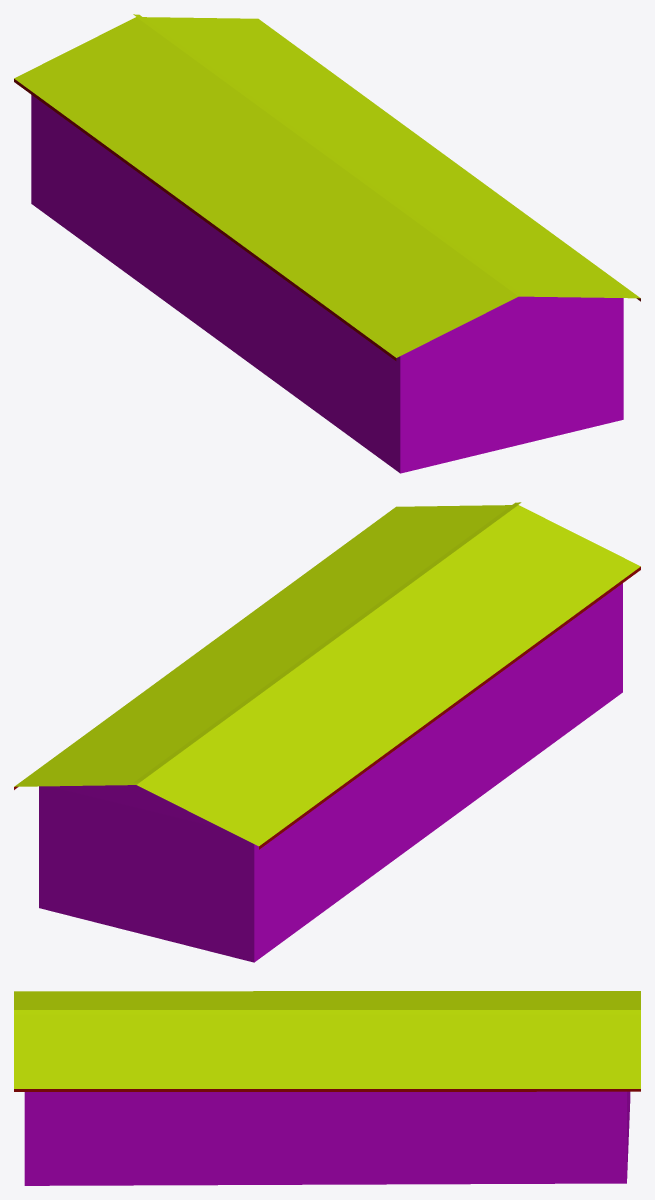
File: rmc_161.glb
The picture shows the model from 3 angles, top to bottom: view 1: azimuth 30°, elevation 25°; view 2: azimuth 150°, elevation 25°; view 3: azimuth 270°, elevation 25°; orthographic projection. The views are drawn at different scales.
Parts seen in each view (by area): view 1: rmc_161; view 2: rmc_161; view 3: rmc_161.
Boxes of the visible parts, x1,y1,x2,y2 form: rmc_161: (14,14,640,473); rmc_161: (14,502,640,962); rmc_161: (14,991,640,1185).
Size of the model in its own units: 8.91 by 5.51 by 24.08.
